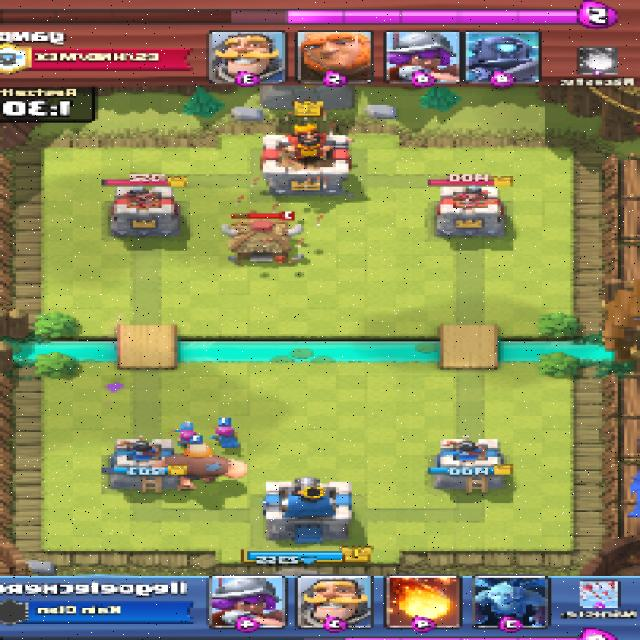Enemy-GoblinHut: (220, 216, 302, 263)
Player-Archer: (213, 424, 243, 449), (174, 426, 197, 446)
Player-Giant: (149, 445, 247, 492)
